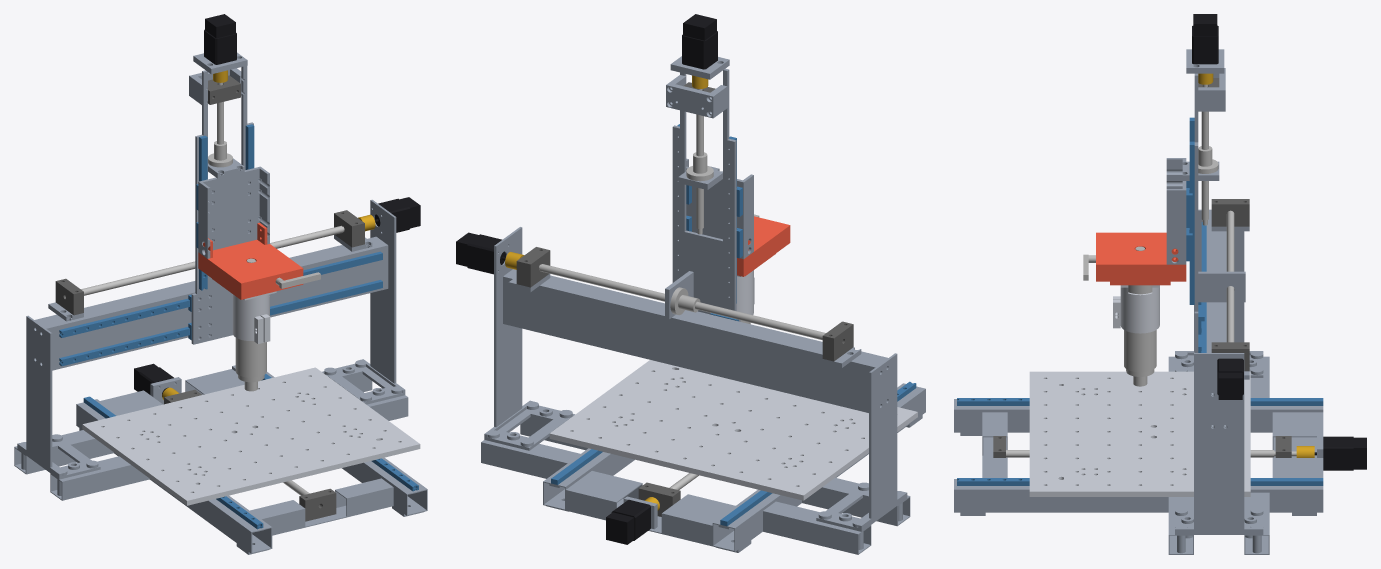
File: light_center.glb
The picture shows the model from 3 angles, left to right: view 1: azimuth 30°, elevation 25°; view 2: azimuth 150°, elevation 25°; view 3: azimuth 270°, elevation 25°; orthographic projection. The views are drawn at different scales.
Parts seen in each view (by area): view 1: table, beam, upright_R, z_slide, upright_L, frame_cross_rear, tooldock_master, x_carriage, frame_cross_bf, frame_longeron_L, x_rail_bot, frame_cross_end (+17 smaller); view 2: table, beam, frame_cross_rear, x_carriage, upright_R, upright_L, frame_cross_end, frame_longeron_L, z_slide, x_screw, z_motor, z_bk_bridge (+14 smaller); view 3: table, upright_R, frame_longeron_R, tooldock_master, frame_cross_end, frame_cross_rear, frame_longeron_L, z_slide, upright_L, head_mount, beam, head_spindle (+16 smaller).
Part boxes in pixels (x1=…): table: x1=82, y1=367, x2=420, y2=505; beam: x1=34, y1=236, x2=388, y2=370; upright_R: x1=322, y1=199, x2=405, y2=404; z_slide: x1=198, y1=166, x2=269, y2=258; upright_L: x1=17, y1=315, x2=100, y2=479; frame_cross_rear: x1=14, y1=363, x2=408, y2=500; tooldock_master: x1=198, y1=222, x2=303, y2=299; x_carriage: x1=191, y1=66, x2=253, y2=344; frame_cross_bf: x1=250, y1=478, x2=393, y2=535; frame_longeron_L: x1=76, y1=399, x2=272, y2=554; x_rail_bot: x1=59, y1=280, x2=382, y2=366; frame_cross_end: x1=100, y1=369, x2=244, y2=415; table: x1=549, y1=360, x2=917, y2=500; beam: x1=503, y1=269, x2=887, y2=412; frame_cross_rear: x1=481, y1=406, x2=910, y2=554; x_carriage: x1=672, y1=68, x2=740, y2=321; upright_R: x1=484, y1=227, x2=574, y2=450; upright_L: x1=816, y1=353, x2=907, y2=531; frame_cross_end: x1=565, y1=471, x2=735, y2=546; frame_longeron_L: x1=712, y1=383, x2=925, y2=552; z_slide: x1=686, y1=158, x2=753, y2=259; x_screw: x1=539, y1=264, x2=825, y2=339; z_motor: x1=682, y1=14, x2=717, y2=69; z_bk_bridge: x1=666, y1=75, x2=727, y2=118; table: x1=1029, y1=371, x2=1250, y2=496; upright_R: x1=1175, y1=353, x2=1263, y2=534; frame_longeron_R: x1=954, y1=479, x2=1323, y2=515; tooldock_master: x1=1096, y1=232, x2=1186, y2=281; frame_cross_end: x1=1272, y1=412, x2=1323, y2=477; frame_cross_rear: x1=1168, y1=356, x2=1269, y2=554; frame_longeron_L: x1=954, y1=399, x2=1323, y2=435; z_slide: x1=1166, y1=158, x2=1186, y2=264; upright_L: x1=1175, y1=209, x2=1263, y2=377; head_mount: x1=1113, y1=285, x2=1159, y2=333; beam: x1=1206, y1=210, x2=1227, y2=427; head_spindle: x1=1124, y1=285, x2=1156, y2=386.
Bounding box in the file's own units: 737 × 789 × 654.
